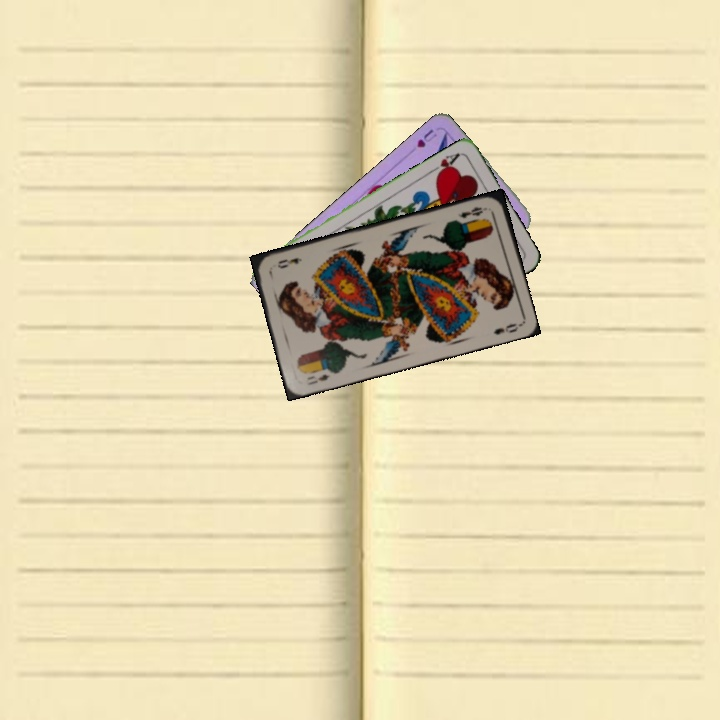EO: (454, 202, 490, 221), (303, 370, 333, 388)
HA: (426, 148, 462, 180)
HU: (413, 125, 440, 150)
